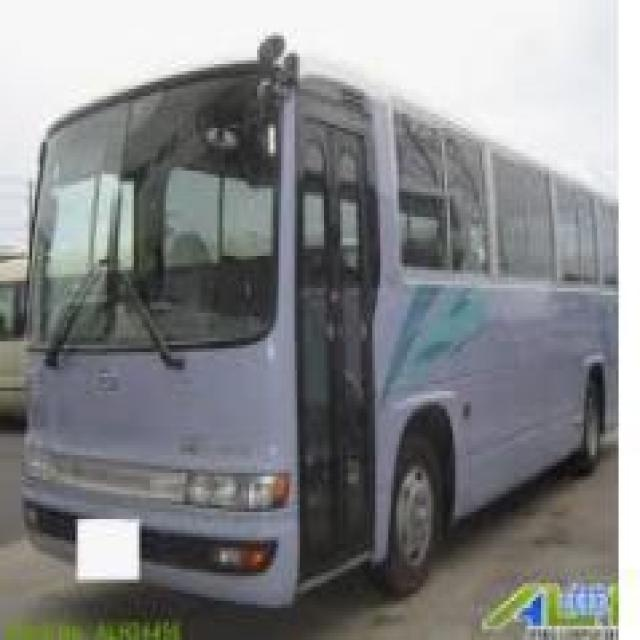Bus: (19, 43, 616, 612)
